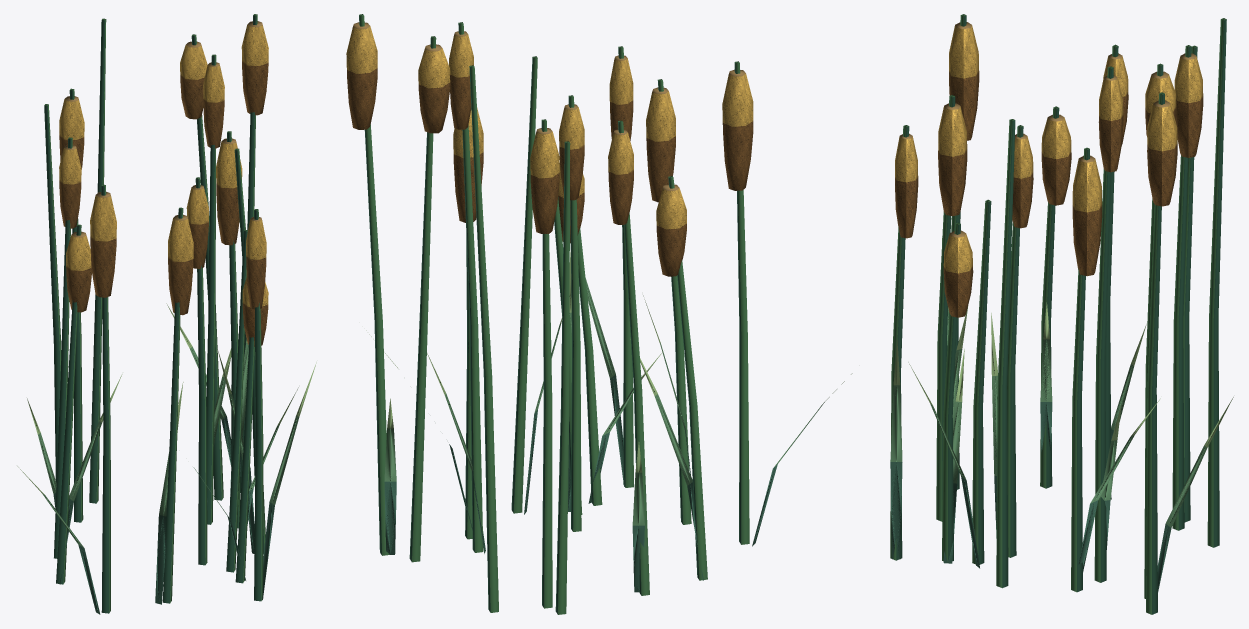
The model's file is Wetland_01_Totora_Tall_LOD1.glb.
3 views of the same model, side by side, from view 1: azimuth 30°, elevation 25°; view 2: azimuth 150°, elevation 25°; view 3: azimuth 270°, elevation 25° (orthographic). The views are drawn at different scales.
Parts seen in each view (by area): view 1: Wetland_01_Totora_Tall_LOD1; view 2: Wetland_01_Totora_Tall_LOD1; view 3: Wetland_01_Totora_Tall_LOD1.
Part boxes in pixels (<box>): Wetland_01_Totora_Tall_LOD1: <box>17,14,316,614</box>; Wetland_01_Totora_Tall_LOD1: <box>346,14,852,614</box>; Wetland_01_Totora_Tall_LOD1: <box>890,14,1233,614</box>.
Bounding box in the file's own units: 1.81 × 2.34 × 1.37.
2 materials, 1 textured.
